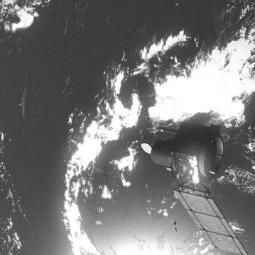earth_observation_sat_1: (140, 117, 236, 210)
